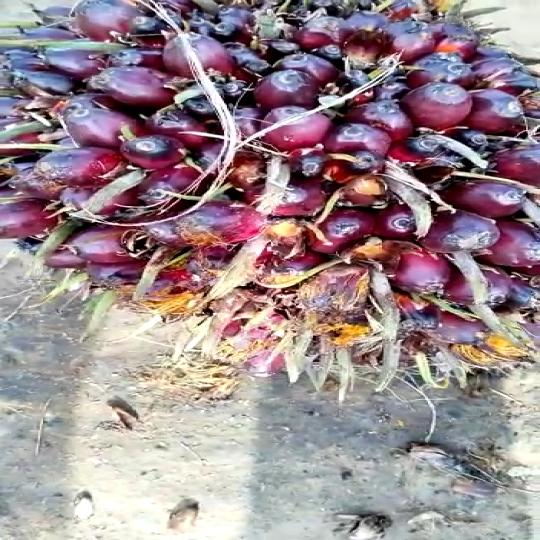masak: (0, 0, 540, 401)
